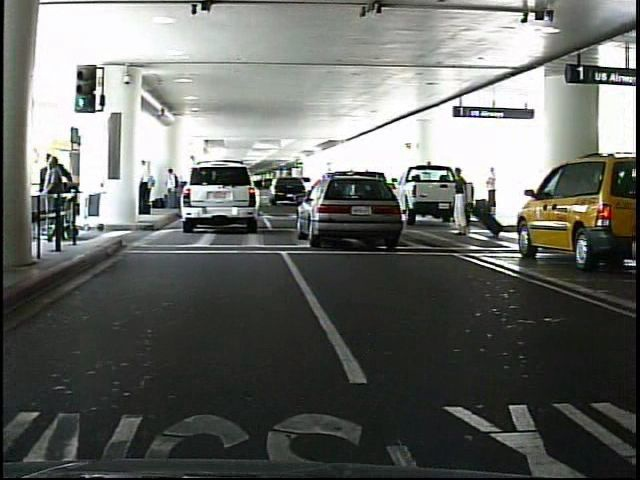person: (454, 165, 476, 238), (489, 165, 504, 218), (144, 157, 156, 217), (170, 167, 183, 210)
